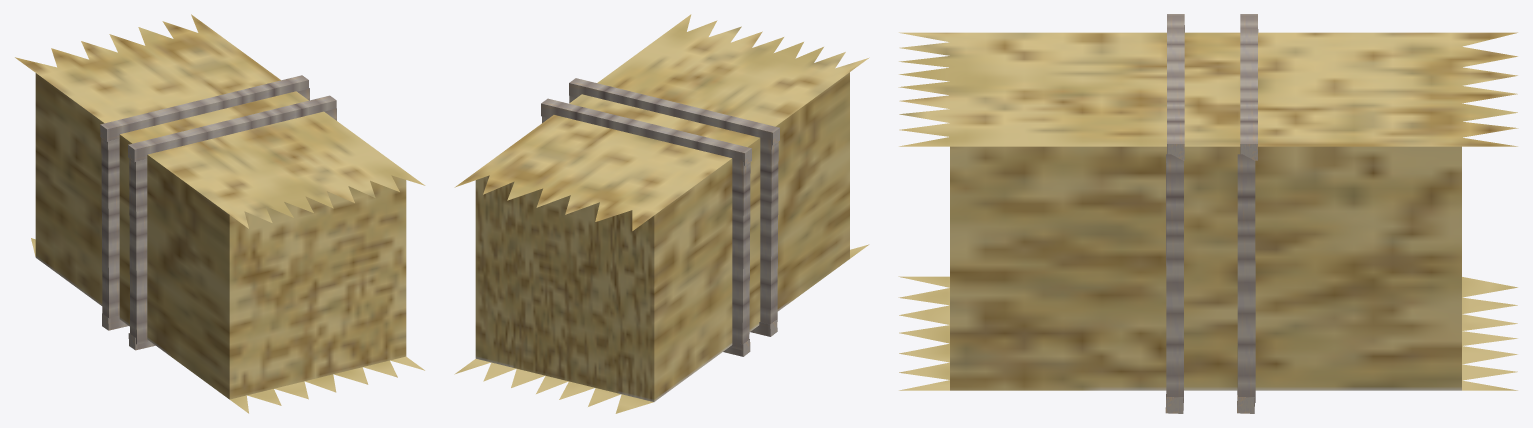
The model's file is hay bale.fbx.
3 views of the same model, side by side, from view 1: azimuth 30°, elevation 25°; view 2: azimuth 150°, elevation 25°; view 3: azimuth 270°, elevation 25° (orthographic). The views are drawn at different scales.
Visible parts, largest first — view 1: pCube1, pCube15, pCube16; view 2: pCube1, pCube15, pCube16; view 3: pCube1, pCube16, pCube15.
Part boxes in pixels (box(x1,y1,x2,y2)): pCube1: box(15, 14, 425, 413); pCube15: box(128, 95, 336, 350); pCube16: box(100, 75, 309, 330); pCube1: box(454, 14, 869, 413); pCube15: box(569, 78, 779, 336); pCube16: box(541, 98, 751, 356); pCube1: box(898, 32, 1518, 390); pCube16: box(1237, 14, 1258, 413); pCube15: box(1165, 14, 1184, 413).
Size of the model in its own units: 1.15 by 1.1 by 2.3.
